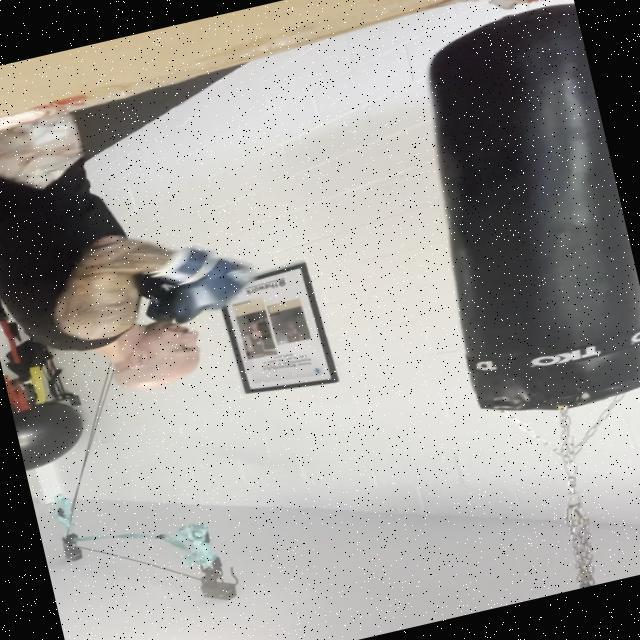bag: (395, 2, 640, 423)
